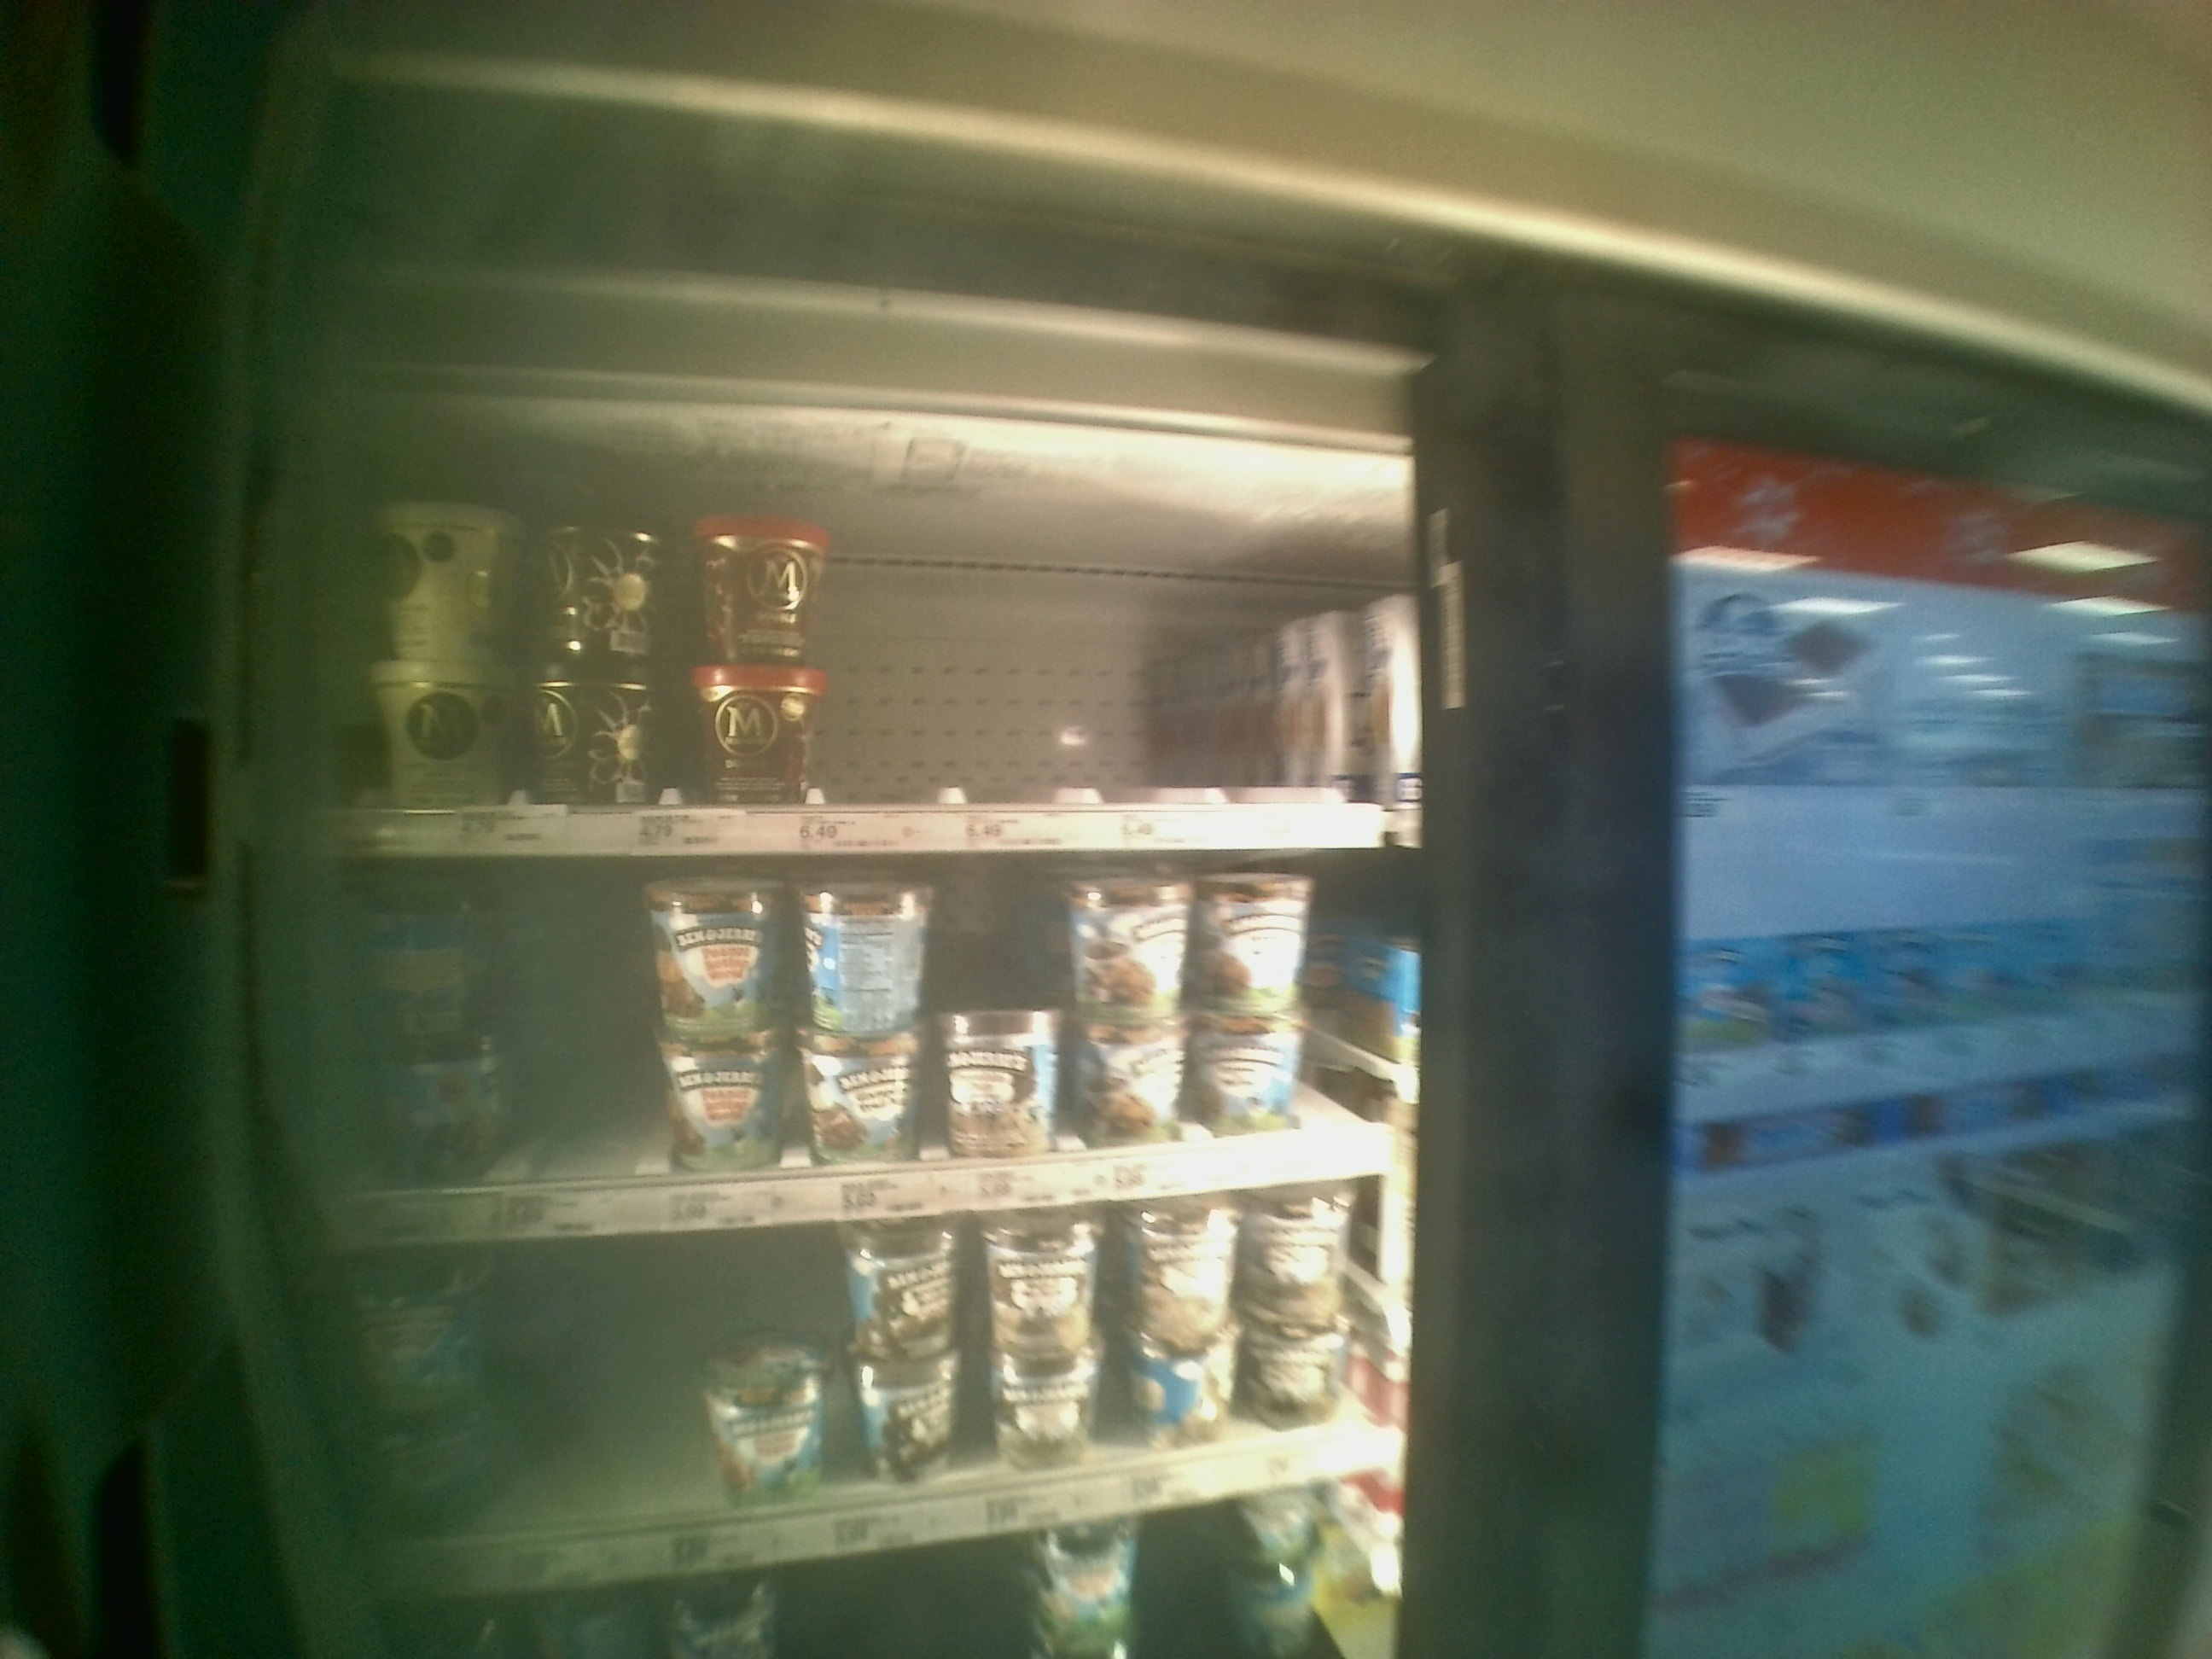ice-cream-shelf: (284, 436, 1420, 849), (284, 849, 1420, 1223)
